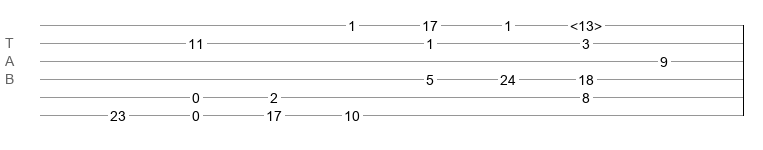0: (192, 108, 200, 118), (192, 90, 200, 100)
1: (348, 18, 356, 28), (426, 36, 434, 46), (504, 18, 512, 28)
10: (344, 108, 360, 118)
11: (188, 36, 204, 46)
17: (266, 108, 282, 118), (422, 18, 438, 28)
18: (578, 72, 594, 82)
2: (270, 90, 278, 100)
23: (110, 108, 126, 118)
24: (500, 72, 516, 82)
3: (582, 36, 590, 46)
5: (426, 72, 434, 82)
8: (582, 90, 590, 100)
9: (660, 54, 668, 64)
harmonic: (570, 18, 602, 28)
